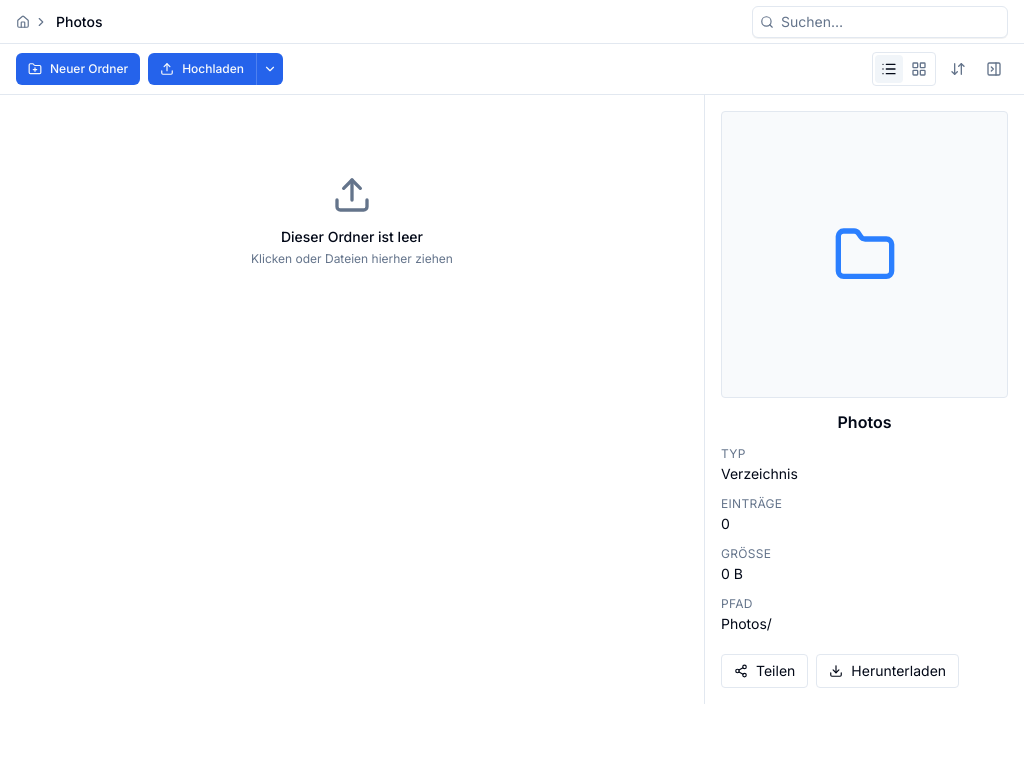
Test: FilesPage — Suche › Enter im Suchfeld ruft die Such-API und zeigt Treffer
Type "report" into the field labelled "Suchen…" at point(880, 22), box left=752, top=6, right=1008, bottom=38
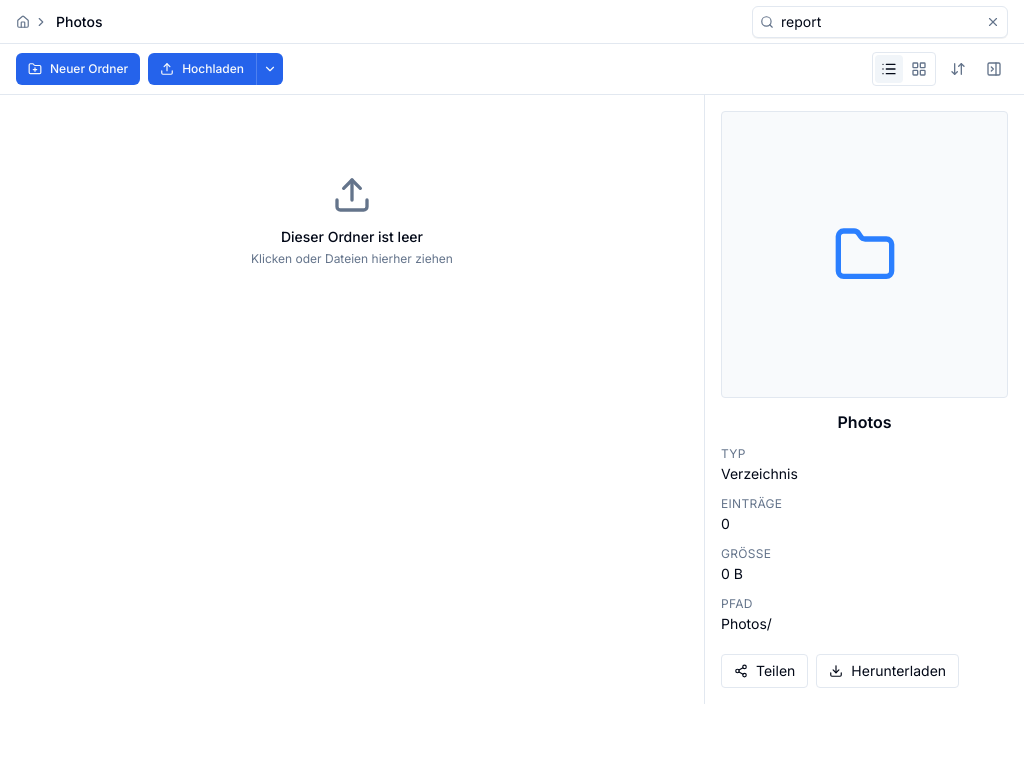
Press Enter in the field named "Suchen…", box left=752, top=6, right=1008, bottom=38
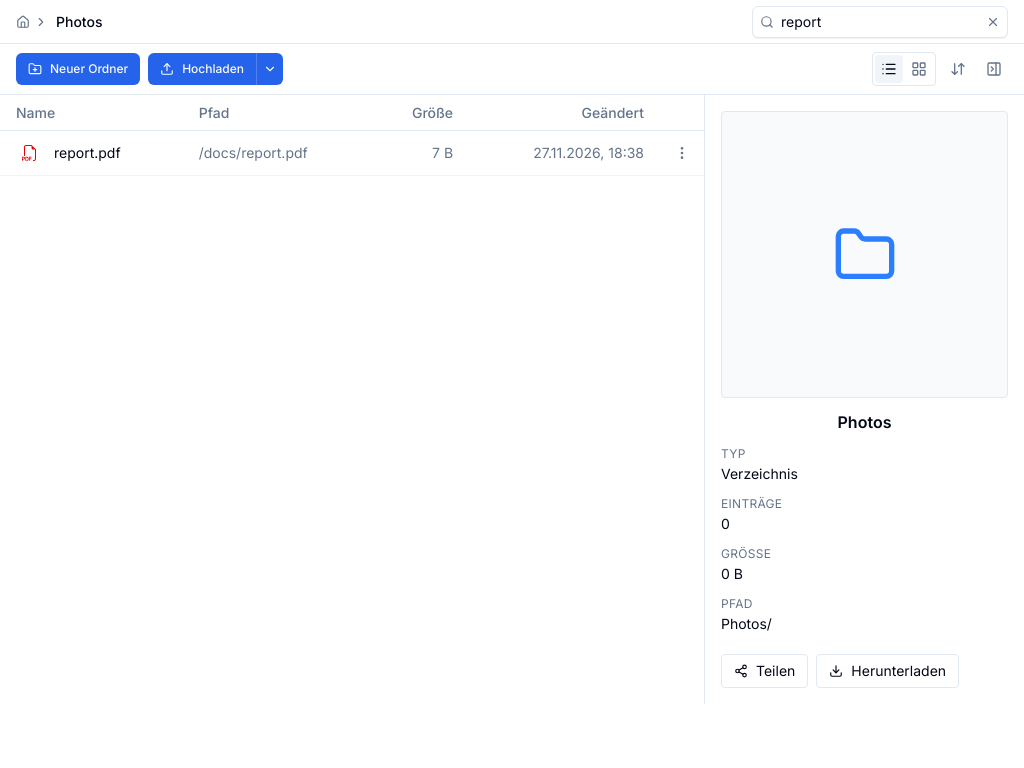
Expected: the text "report.pdf" is shown, left=54, top=143, right=121, bottom=163
